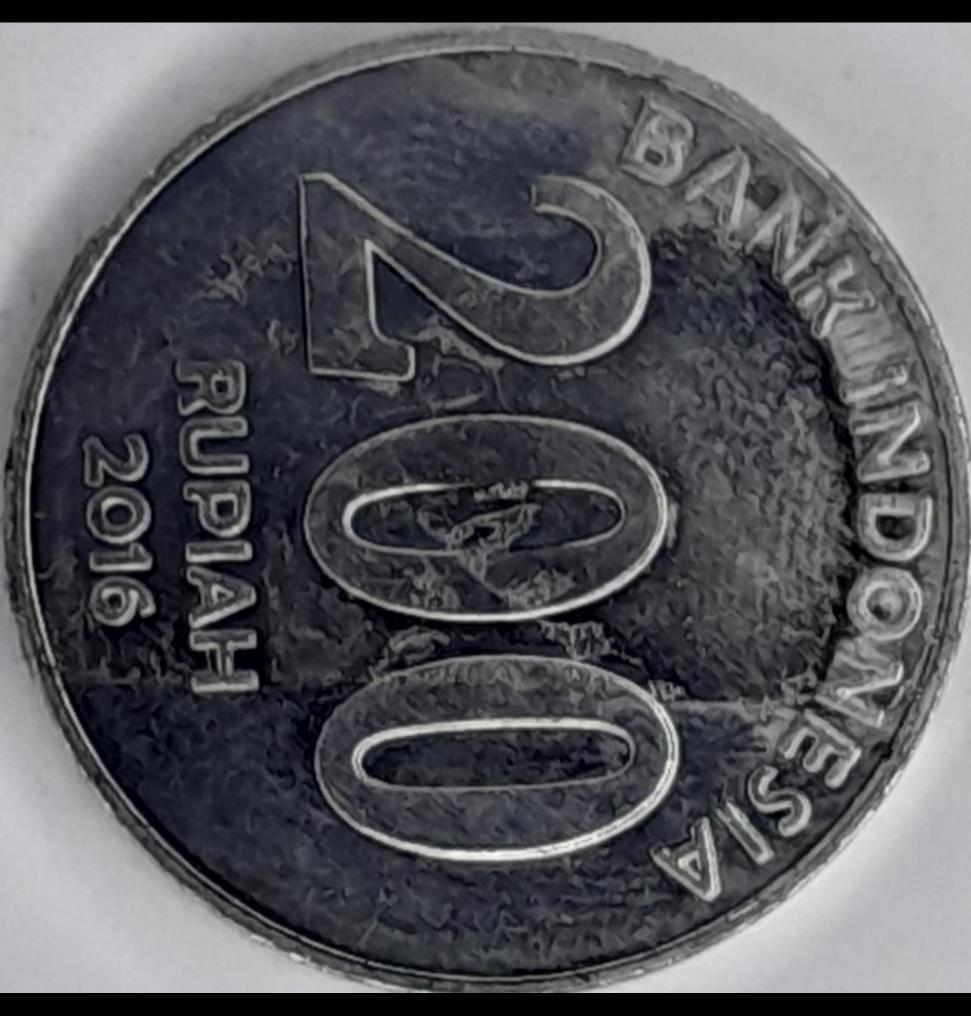coin_200_e2016: (0, 18, 971, 1016)
